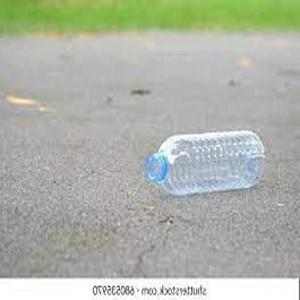Plastic: (141, 128, 266, 199)
